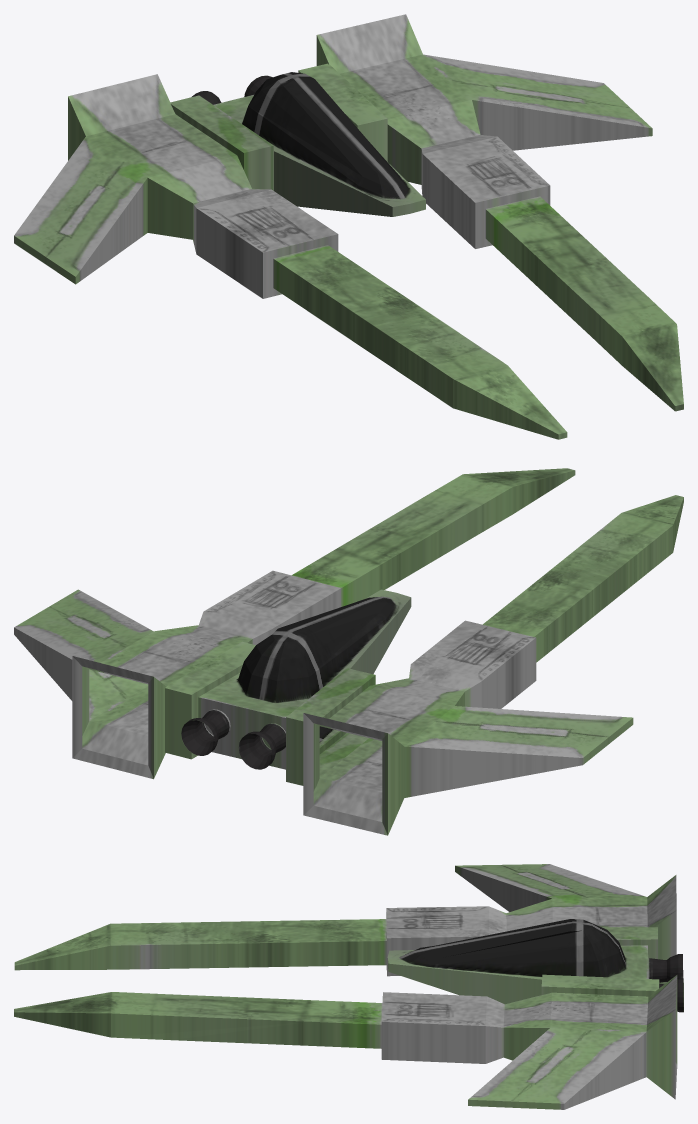
Rendered from scout_team_1.fbx.
The picture shows the model from 3 angles, top to bottom: view 1: azimuth 30°, elevation 25°; view 2: azimuth 150°, elevation 25°; view 3: azimuth 270°, elevation 25°; orthographic projection. The views are drawn at different scales.
Visible parts, largest first — view 1: polySurface5; view 2: polySurface5; view 3: polySurface5.
Boxes of the visible parts, box(x1,y1,x2,y2) form: polySurface5: box(14, 14, 683, 439); polySurface5: box(14, 468, 683, 835); polySurface5: box(14, 864, 683, 1109).
Bounding box in the file's own units: 4.97 × 1.06 × 5.87.
Materials: 1 (1 with a texture image).
